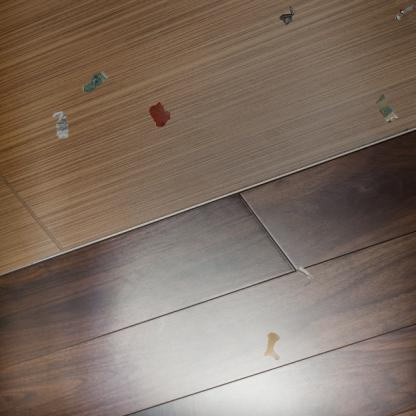dirty: (374, 92, 400, 124), (81, 70, 109, 94), (51, 110, 70, 140), (294, 264, 315, 288), (277, 4, 297, 26), (394, 3, 416, 22)
liquid: (147, 101, 170, 127), (262, 331, 280, 362)
